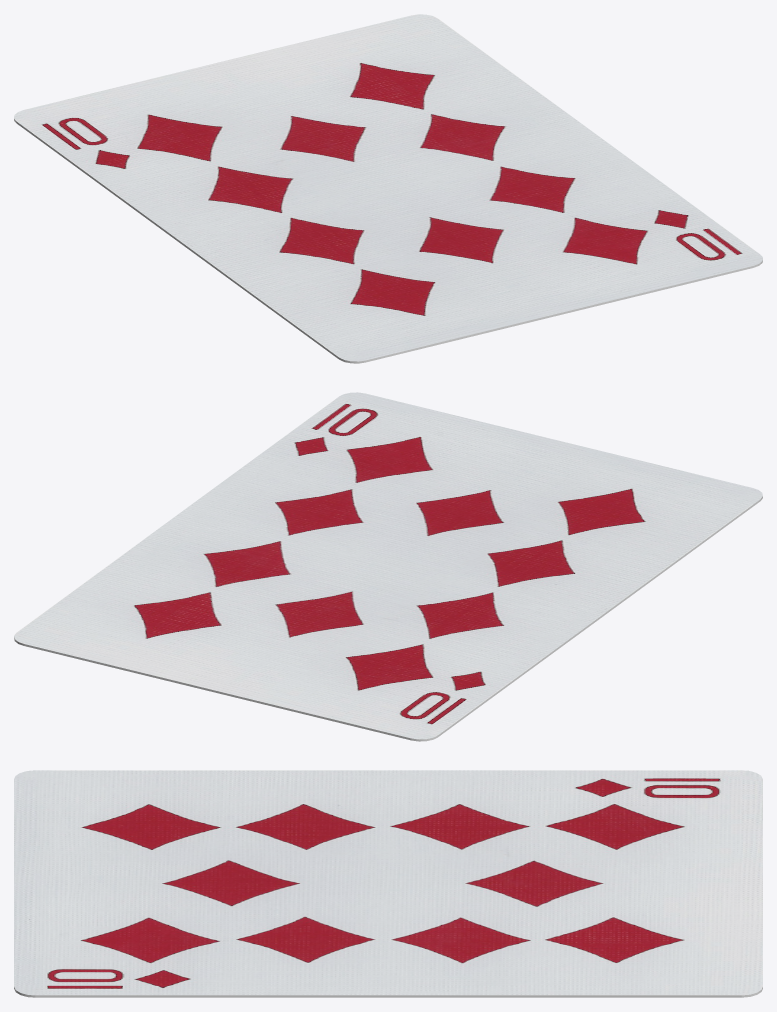
The model's file is diamonds_10.fbx.
The picture shows the model from 3 angles, top to bottom: view 1: azimuth 30°, elevation 25°; view 2: azimuth 150°, elevation 25°; view 3: azimuth 270°, elevation 25°; orthographic projection. The views are drawn at different scales.
Visible parts, largest first — view 1: Diamonds_10_2; view 2: Diamonds_10_2; view 3: Diamonds_10_2.
Boxes of the visible parts, left/top/right/bottom form: Diamonds_10_2: left=14, top=14, right=762, bottom=363; Diamonds_10_2: left=14, top=392, right=762, bottom=741; Diamonds_10_2: left=14, top=770, right=762, bottom=997.
Size of the model in its own units: 6.26 by 0.029 by 8.8.
Materials: 3 (2 with a texture image).
